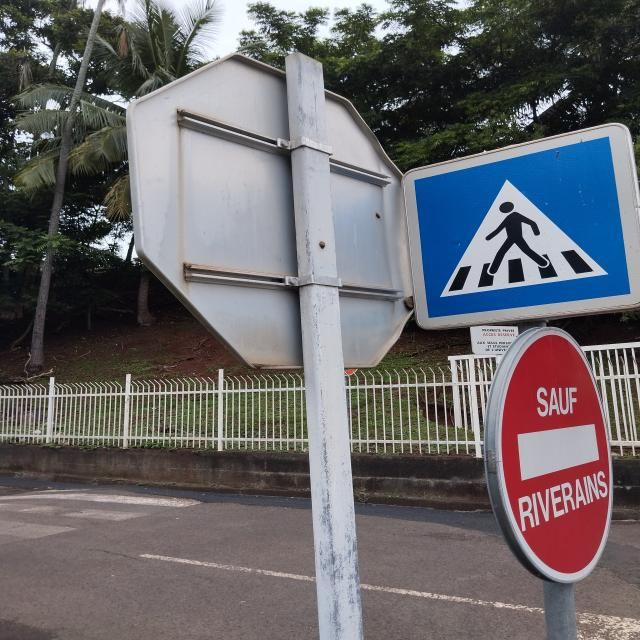Passage-pieton: (400, 117, 640, 330)
